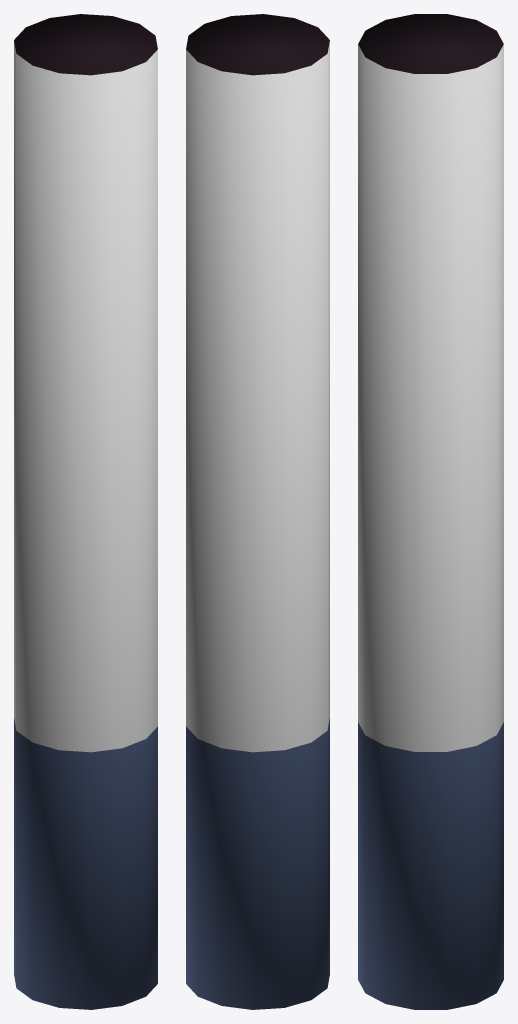
File: Cigarette.fbx
The picture shows the model from 3 angles, left to right: view 1: azimuth 30°, elevation 25°; view 2: azimuth 150°, elevation 25°; view 3: azimuth 270°, elevation 25°; orthographic projection.
Parts seen in each view (by area): view 1: Cylinder.007; view 2: Cylinder.007; view 3: Cylinder.007.
Boxes of the visible parts, x1=… form: Cylinder.007: x1=14, y1=14, x2=157, y2=1009; Cylinder.007: x1=186, y1=14, x2=329, y2=1009; Cylinder.007: x1=358, y1=14, x2=503, y2=1009.
Bounding box in the file's own units: 0.9749 × 7.08 × 1.
